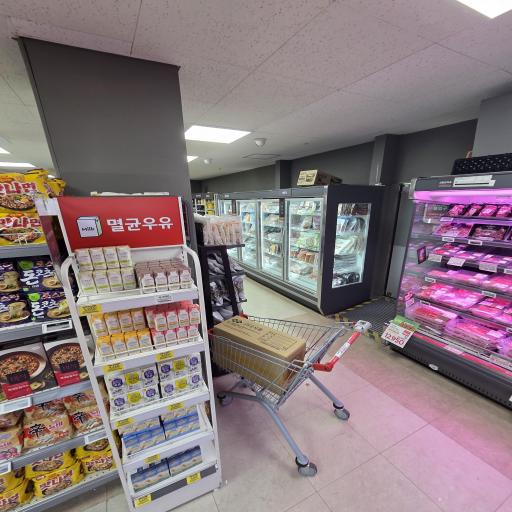fully_cart: (200, 301, 390, 488)
